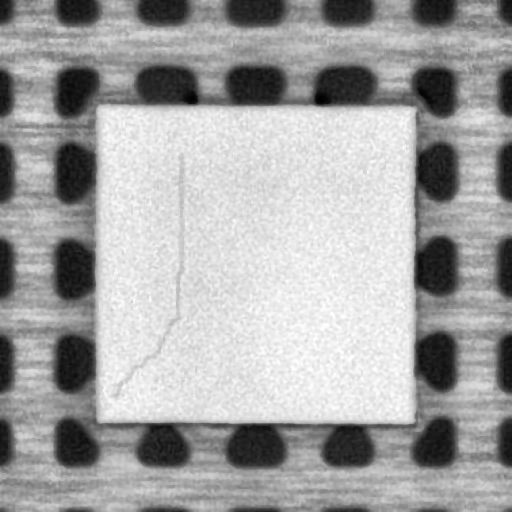DIE_CRACK: (112, 151, 186, 397)
